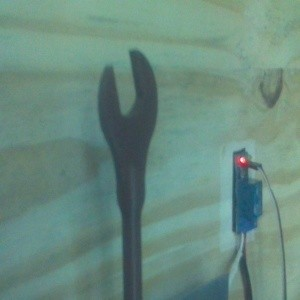spanner: (97, 47, 159, 300)
